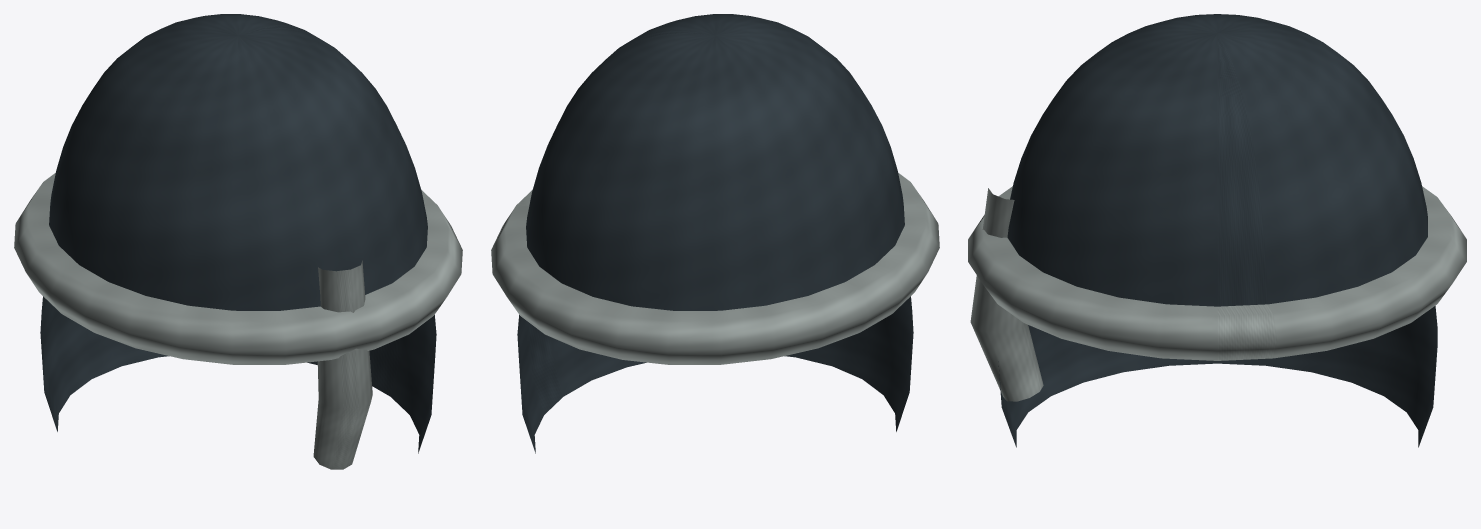
File: greyhaven_helm.glb
The picture shows the model from 3 angles, left to right: view 1: azimuth 30°, elevation 25°; view 2: azimuth 150°, elevation 25°; view 3: azimuth 270°, elevation 25°; orthographic projection.
Visible parts, largest first — view 1: Greyhaven League Helm; view 2: Greyhaven League Helm; view 3: Greyhaven League Helm.
Part boxes in pixels (box(x1,y1,x2,y2)): Greyhaven League Helm: box(14, 14, 462, 469); Greyhaven League Helm: box(491, 14, 939, 453); Greyhaven League Helm: box(968, 14, 1466, 447).
Size of the model in its own units: 0.252 by 0.258 by 0.2827.
Materials: 2 (2 with a texture image).
